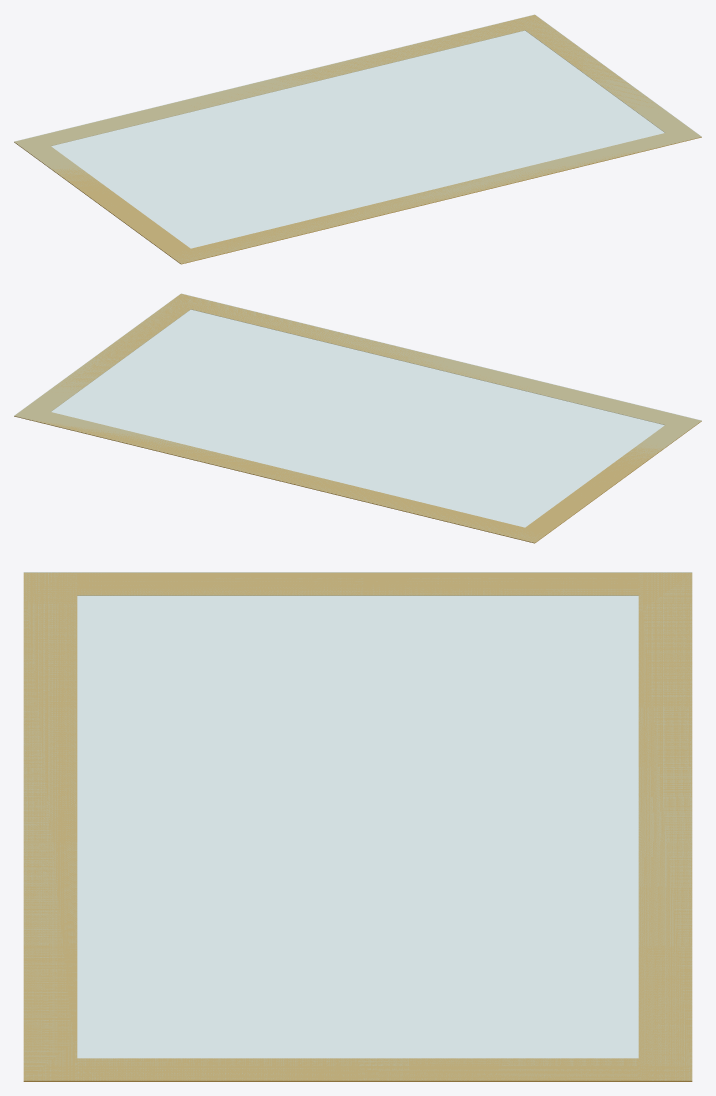
File: paper.glb
3 renders of one model, top to bottom at view 1: azimuth 30°, elevation 25°; view 2: azimuth 150°, elevation 25°; view 3: azimuth 270°, elevation 25°, orthographic. The views are drawn at different scales.
Parts seen in each view (by area): view 1: ActualPETPatch, FilmGlueLong_1, FilmGlueLong_-1, FilmGlueEnd_-1, FilmGlueEnd_1; view 2: ActualPETPatch, FilmGlueLong_-1, FilmGlueLong_1, FilmGlueEnd_-1, FilmGlueEnd_1; view 3: ActualPETPatch, FilmGlueLong_-1, FilmGlueLong_1, FilmGlueEnd_1, FilmGlueEnd_-1.
Part boxes in pixels (box(x1,y1,x2,y2)): ActualPETPatch: box(14, 14, 701, 263); FilmGlueLong_1: box(167, 127, 701, 264); FilmGlueLong_-1: box(14, 14, 547, 151); FilmGlueEnd_-1: box(27, 146, 190, 254); FilmGlueEnd_1: box(525, 24, 687, 132); ActualPETPatch: box(14, 293, 701, 542); FilmGlueLong_-1: box(14, 406, 548, 543); FilmGlueLong_1: box(168, 294, 701, 430); FilmGlueEnd_-1: box(525, 425, 688, 533); FilmGlueEnd_1: box(28, 303, 190, 411); ActualPETPatch: box(23, 572, 692, 1080); FilmGlueLong_-1: box(638, 572, 692, 1081); FilmGlueLong_1: box(23, 572, 77, 1081); FilmGlueEnd_1: box(77, 1058, 638, 1081); FilmGlueEnd_-1: box(77, 572, 638, 595).
Size of the model in its own units: 0.18 by 0.00025 by 0.1.
